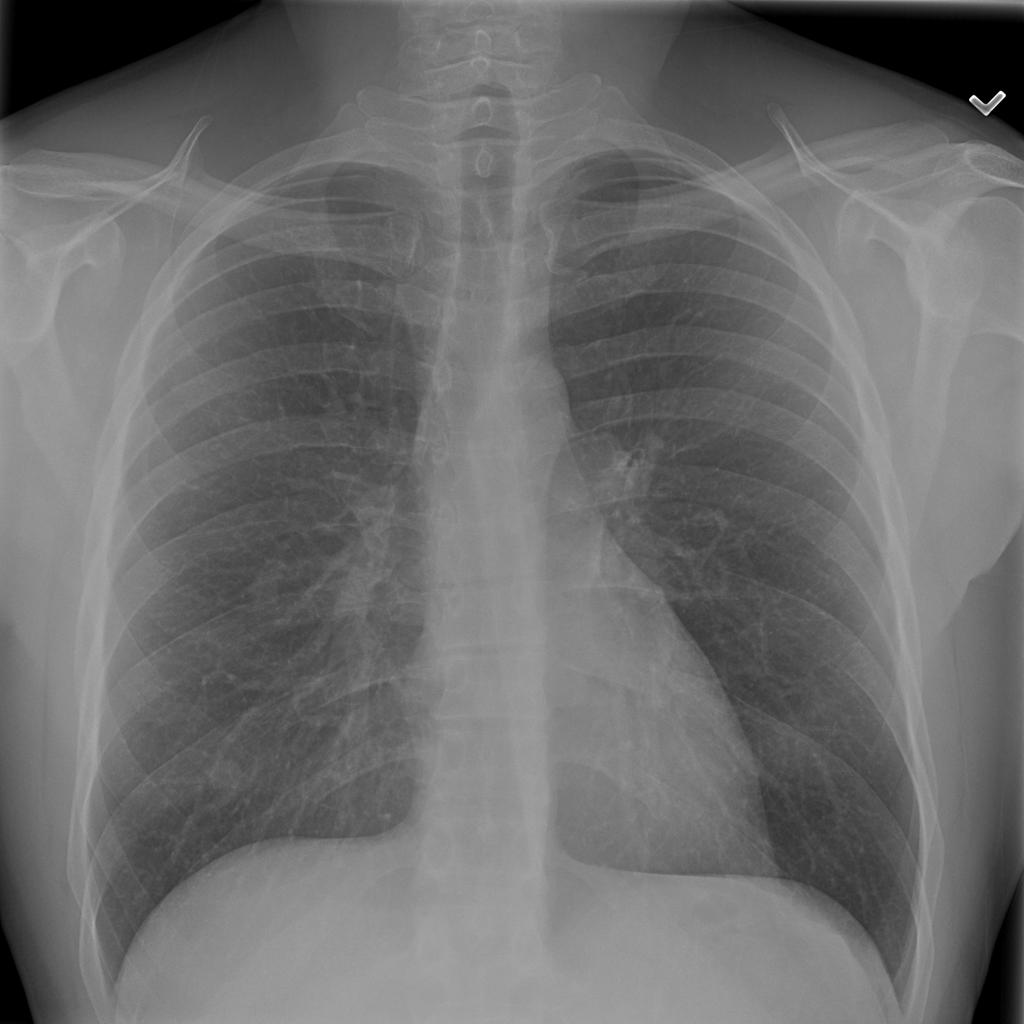nodule: (191, 740, 263, 810)
